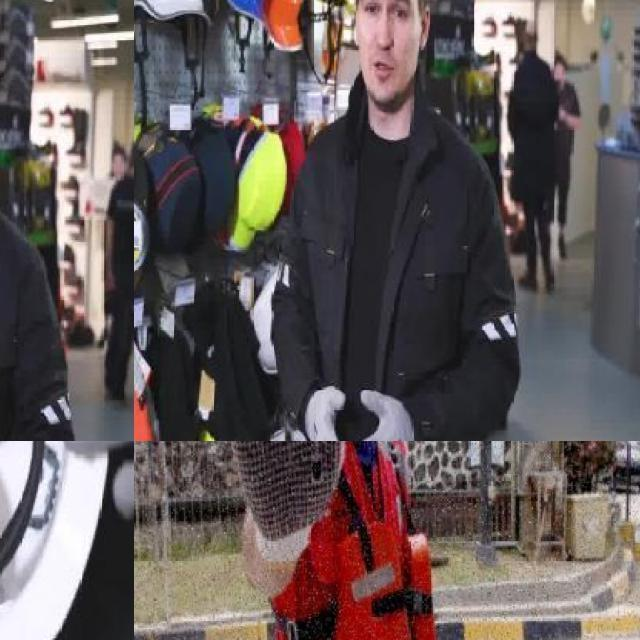apron: (194, 441, 357, 574), (41, 441, 134, 521), (333, 388, 413, 441), (301, 382, 344, 441)
